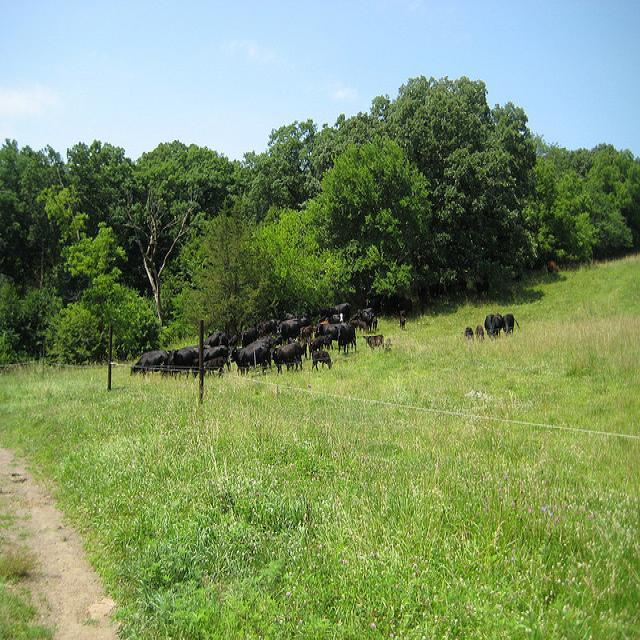cow: (163, 251, 562, 388), (229, 344, 268, 375), (130, 347, 169, 375), (269, 340, 302, 373), (314, 322, 344, 350), (166, 347, 191, 377), (332, 323, 354, 351), (275, 320, 299, 344), (483, 312, 502, 339), (311, 348, 332, 372), (201, 355, 224, 376), (202, 343, 226, 361), (361, 333, 383, 352), (501, 312, 516, 331), (460, 324, 472, 340), (473, 323, 483, 337)
